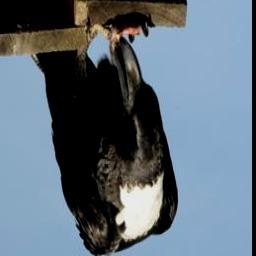Crow: (30, 17, 180, 256)
